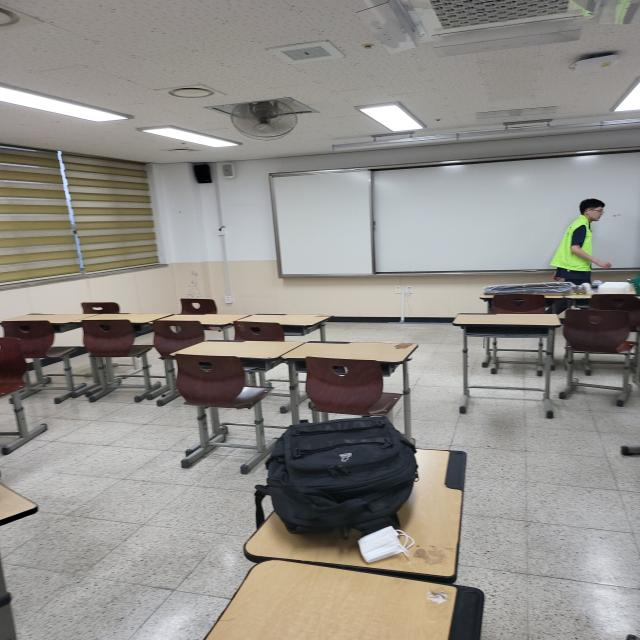weston_spy: (546, 209, 601, 281)
